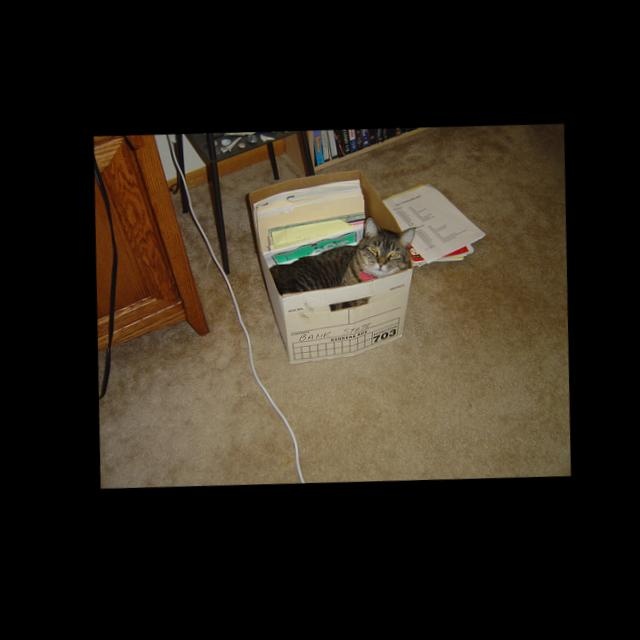animals: (361, 216, 413, 269)
